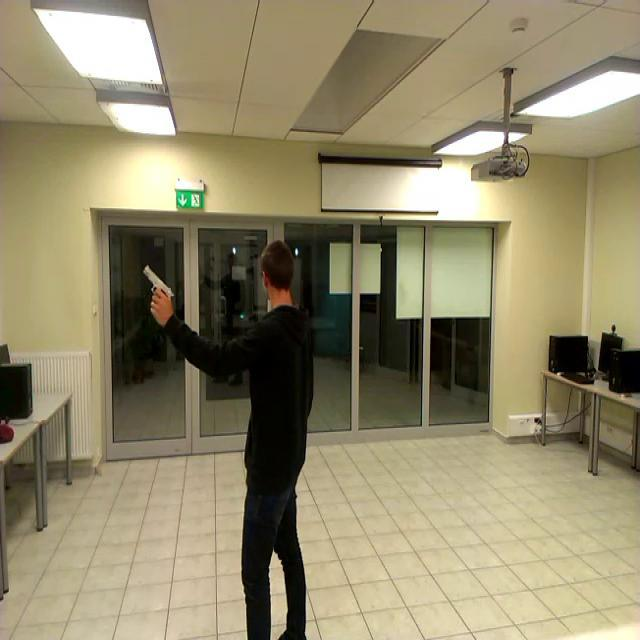Gun: (143, 264, 175, 312)
